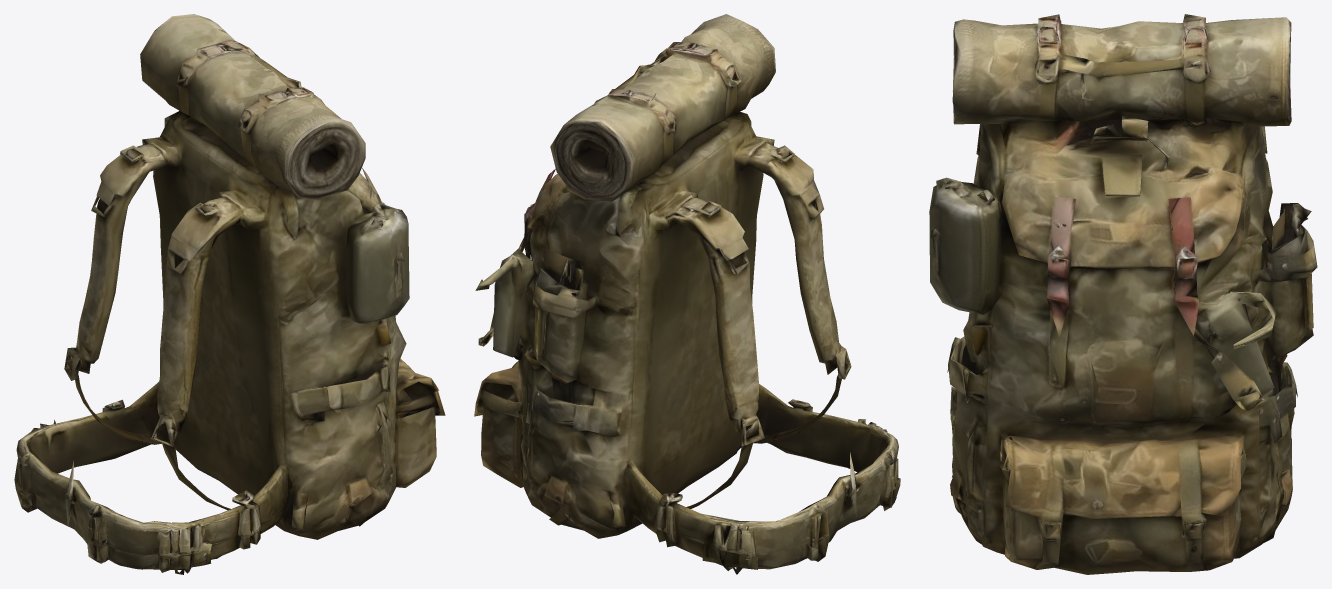
The model's file is bp_large.glb.
3 views of the same model, side by side, from view 1: azimuth 30°, elevation 25°; view 2: azimuth 150°, elevation 25°; view 3: azimuth 270°, elevation 25° (orthographic). The views are drawn at different scales.
Parts seen in each view (by area): view 1: tripo_node_769fa940-4782-4a2d-8a4b-2cc688dd69d1; view 2: tripo_node_769fa940-4782-4a2d-8a4b-2cc688dd69d1; view 3: tripo_node_769fa940-4782-4a2d-8a4b-2cc688dd69d1.
Part boxes in pixels (x1=…): tripo_node_769fa940-4782-4a2d-8a4b-2cc688dd69d1: x1=14, y1=14, x2=445, y2=574; tripo_node_769fa940-4782-4a2d-8a4b-2cc688dd69d1: x1=474, y1=14, x2=900, y2=574; tripo_node_769fa940-4782-4a2d-8a4b-2cc688dd69d1: x1=929, y1=14, x2=1317, y2=574.
Bounding box in the file's own units: 0.8271 × 0.9803 × 0.6898.
1 material, 1 textured.
